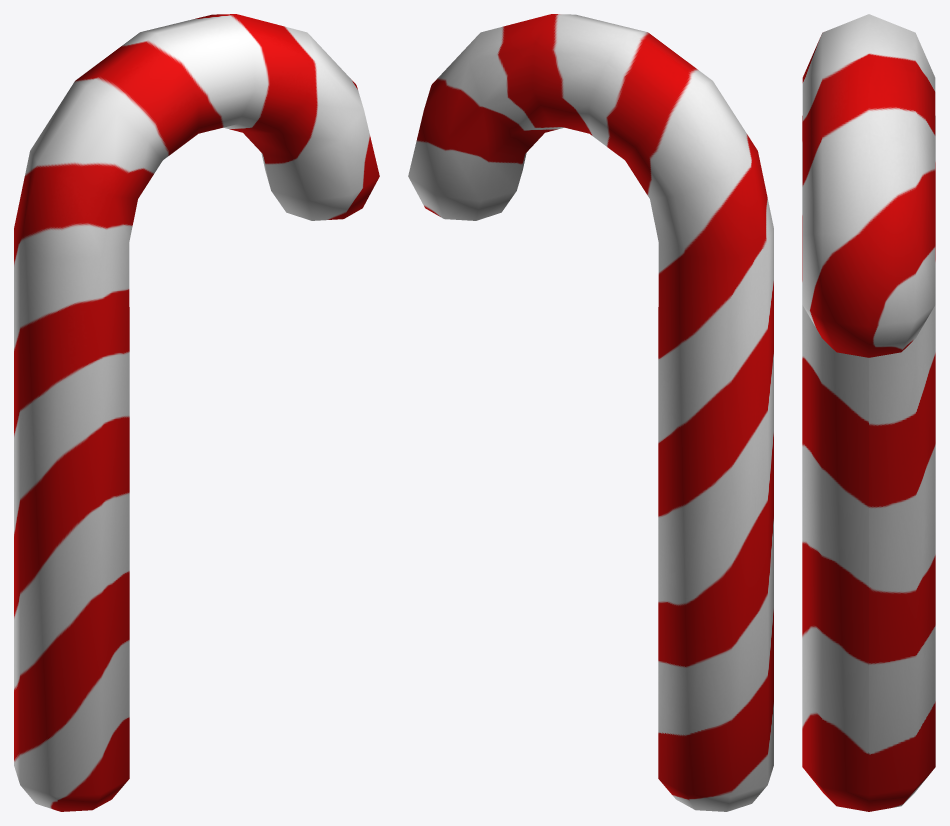
File: Candy-Cane.fbx
The picture shows the model from 3 angles, left to right: view 1: azimuth 30°, elevation 25°; view 2: azimuth 150°, elevation 25°; view 3: azimuth 270°, elevation 25°; orthographic projection. The views are drawn at different scales.
Parts seen in each view (by area): view 1: Candy-Cane; view 2: Candy-Cane; view 3: Candy-Cane.
Part boxes in pixels (x1=…): Candy-Cane: x1=14, y1=14, x2=379, y2=811; Candy-Cane: x1=408, y1=14, x2=773, y2=811; Candy-Cane: x1=802, y1=14, x2=935, y2=811.
Size of the model in its own units: 2.02 by 4.11 by 0.5917.
